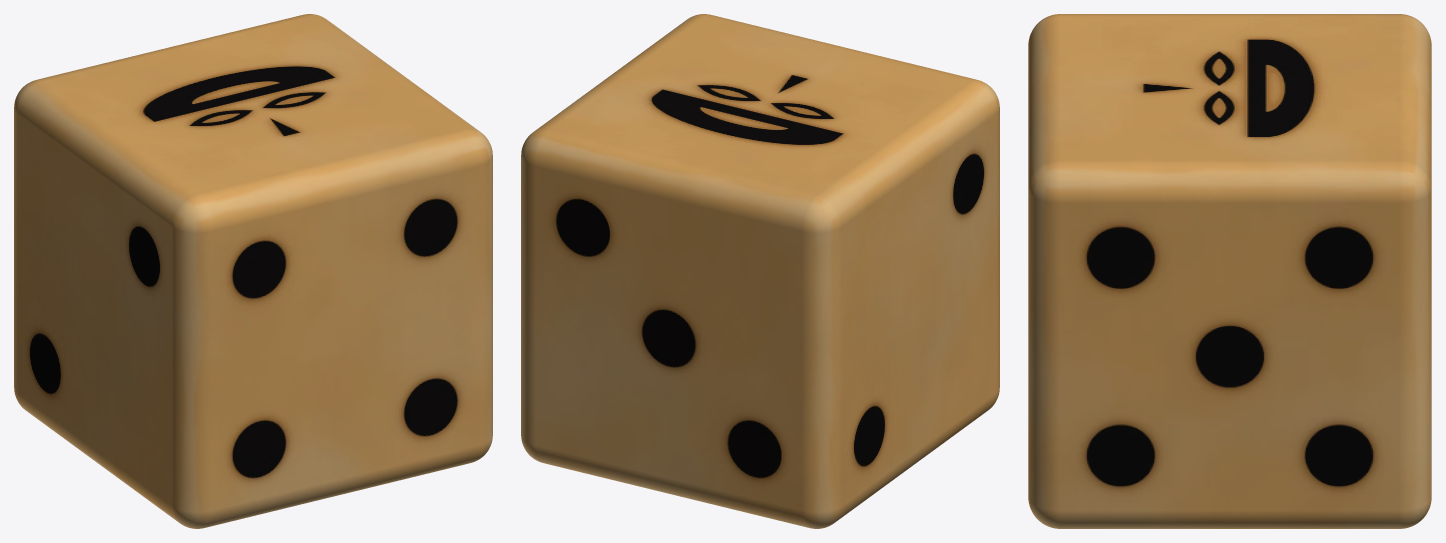
File: dice_6.gltf
3 views of the same model, side by side, from view 1: azimuth 30°, elevation 25°; view 2: azimuth 150°, elevation 25°; view 3: azimuth 270°, elevation 25° (orthographic). The views are drawn at different scales.
Parts seen in each view (by area): view 1: dice_6; view 2: dice_6; view 3: dice_6.
Boxes of the visible parts, <box> form: dice_6: <box>14,14,492,528</box>; dice_6: <box>521,14,999,528</box>; dice_6: <box>1028,14,1431,528</box>.
Size of the model in its own units: 104 by 104 by 104.
1 material, 1 textured.
